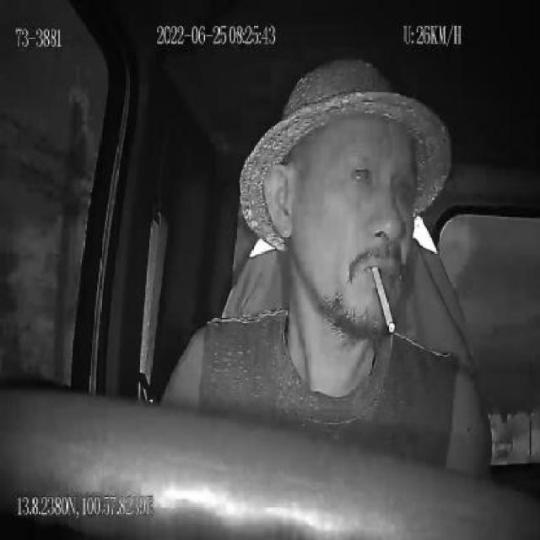smoking: (370, 262, 394, 336)
